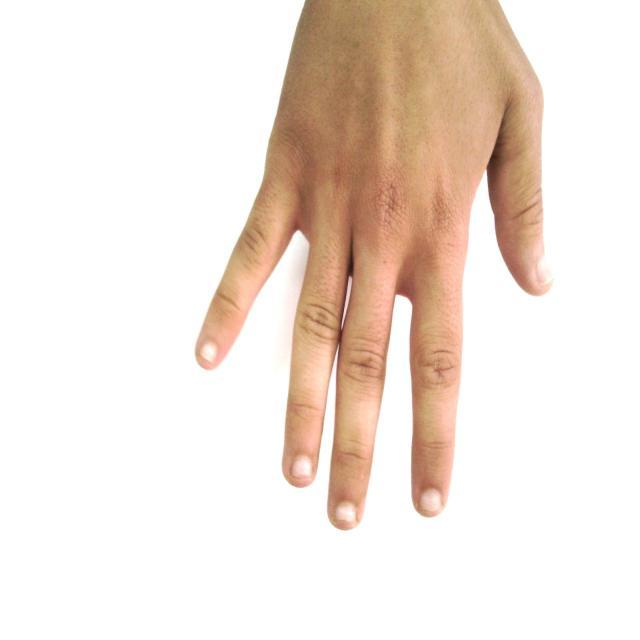Fingernail: (421, 488, 441, 512), (291, 454, 310, 477), (336, 501, 355, 521), (538, 260, 553, 284), (199, 343, 217, 363)
